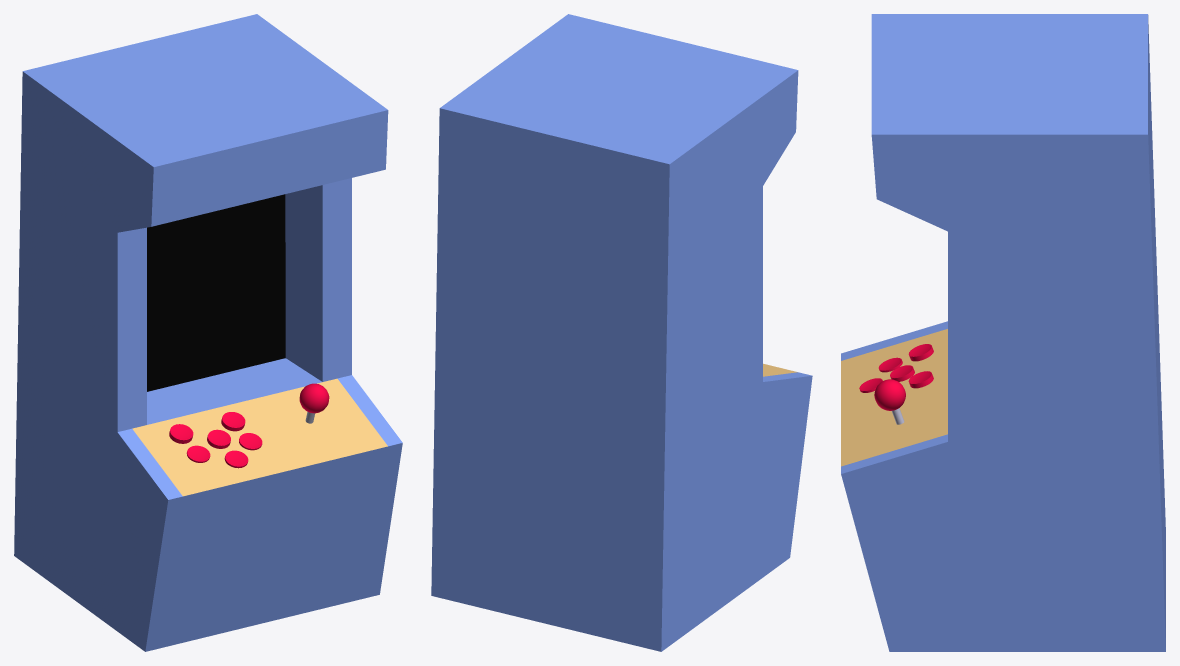
Rendered from ArcadeMachine.fbx.
The picture shows the model from 3 angles, left to right: view 1: azimuth 30°, elevation 25°; view 2: azimuth 150°, elevation 25°; view 3: azimuth 270°, elevation 25°; orthographic projection. The views are drawn at different scales.
Parts seen in each view (by area): view 1: pSphere3; view 2: pSphere3; view 3: pSphere3.
Boxes of the visible parts, <box> form: pSphere3: <box>14,14,402,651</box>; pSphere3: <box>431,14,812,651</box>; pSphere3: <box>841,14,1165,651</box>.
Size of the model in its own units: 16 by 32 by 18.22.
